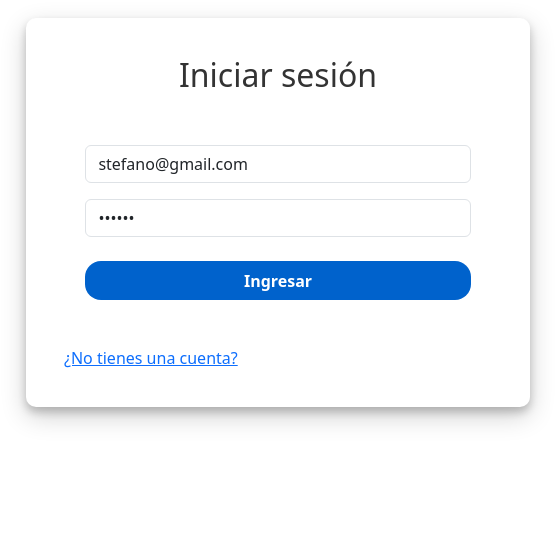
Scenario: Pruebas en <AppRouter /> › debe de mostrar la pantalla de registro
Click the link "¿No tienes una cuenta?". click: x=151, y=358
box: 64,346 -> 238,368
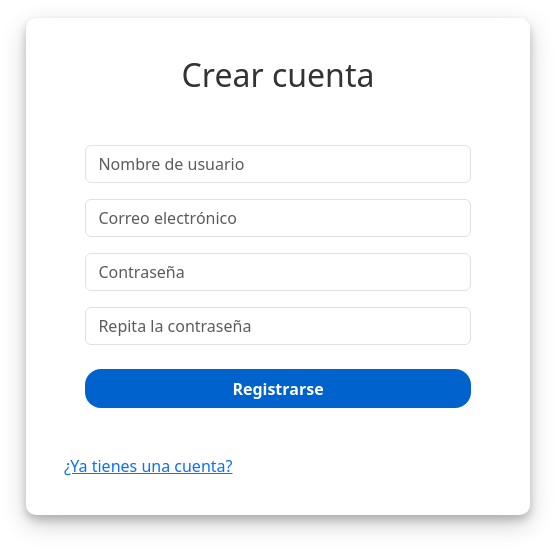
Check: the heading "Crear cuenta" is shown, box 182,53 -> 374,96
